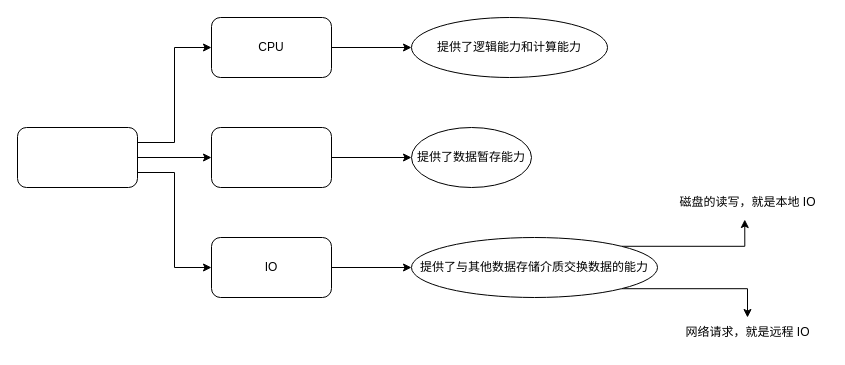
This 845x365 diagram has some shape labels left out. The shapes that lost their labels are listed below. From the top down, each one's centre as x and y in pixels, then its label:
(77,157): 核心能力
(271,157): 内存
